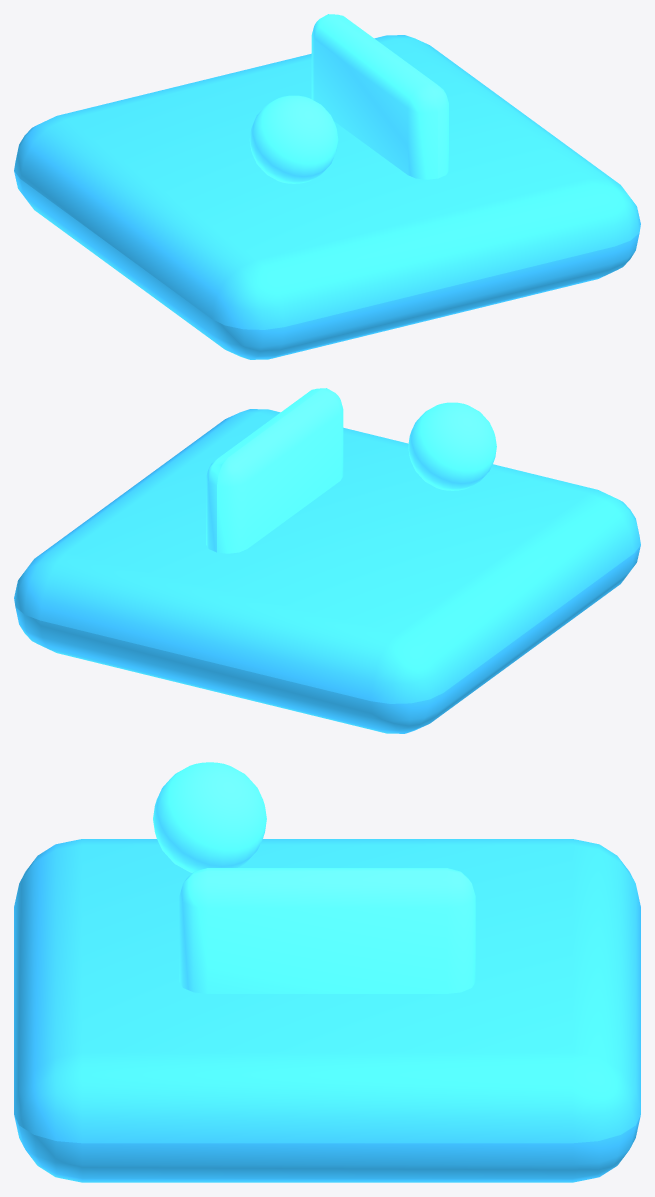
Rendered from linkedin.glb.
3 views of the same model, one above another, from view 1: azimuth 30°, elevation 25°; view 2: azimuth 150°, elevation 25°; view 3: azimuth 270°, elevation 25° (orthographic). The views are drawn at different scales.
Visible parts, largest first — view 1: Cube, Cube.001, Sphere; view 2: Cube, Cube.001, Sphere; view 3: Cube, Cube.001, Sphere.
Part boxes in pixels (x1=…): Cube: x1=14, y1=35, x2=640, y2=359; Cube.001: x1=311, y1=14, x2=448, y2=179; Sphere: x1=249, y1=95, x2=338, y2=183; Cube: x1=14, y1=409, x2=640, y2=733; Cube.001: x1=206, y1=388, x2=343, y2=553; Sphere: x1=408, y1=402, x2=496, y2=490; Cube: x1=14, y1=839, x2=640, y2=1182; Cube.001: x1=179, y1=868, x2=475, y2=993; Sphere: x1=153, y1=762, x2=266, y2=872.
Size of the model in its own units: 1.6 by 0.72 by 1.6.
